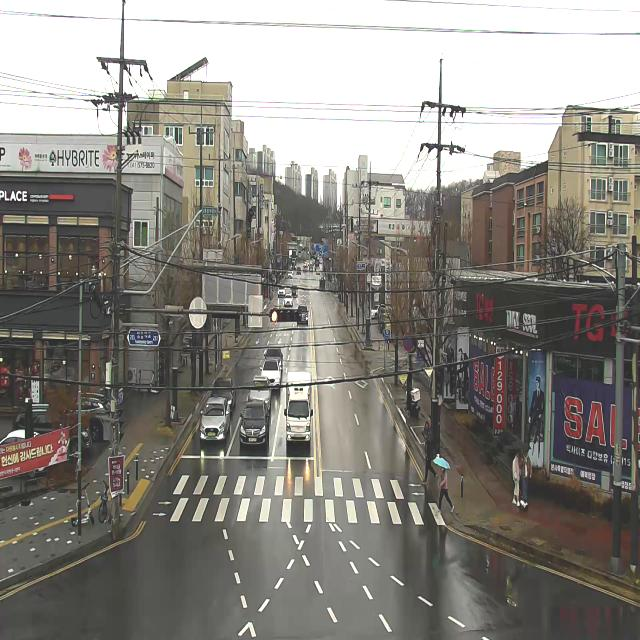Bus: (291, 258, 296, 270)
Car: (12, 412, 92, 460), (0, 429, 45, 478), (74, 392, 110, 442), (240, 400, 270, 446), (200, 398, 232, 440), (210, 378, 236, 414), (248, 376, 271, 412), (260, 359, 282, 389), (264, 348, 283, 372), (297, 304, 309, 327), (372, 304, 386, 319), (183, 331, 192, 347), (284, 294, 293, 306), (290, 285, 298, 297), (278, 287, 286, 297), (296, 266, 302, 274), (303, 266, 308, 272), (288, 271, 292, 278), (316, 268, 320, 274), (306, 260, 310, 266), (310, 267, 313, 272)
Truck: (284, 372, 313, 444), (319, 277, 326, 289), (315, 256, 320, 269)
